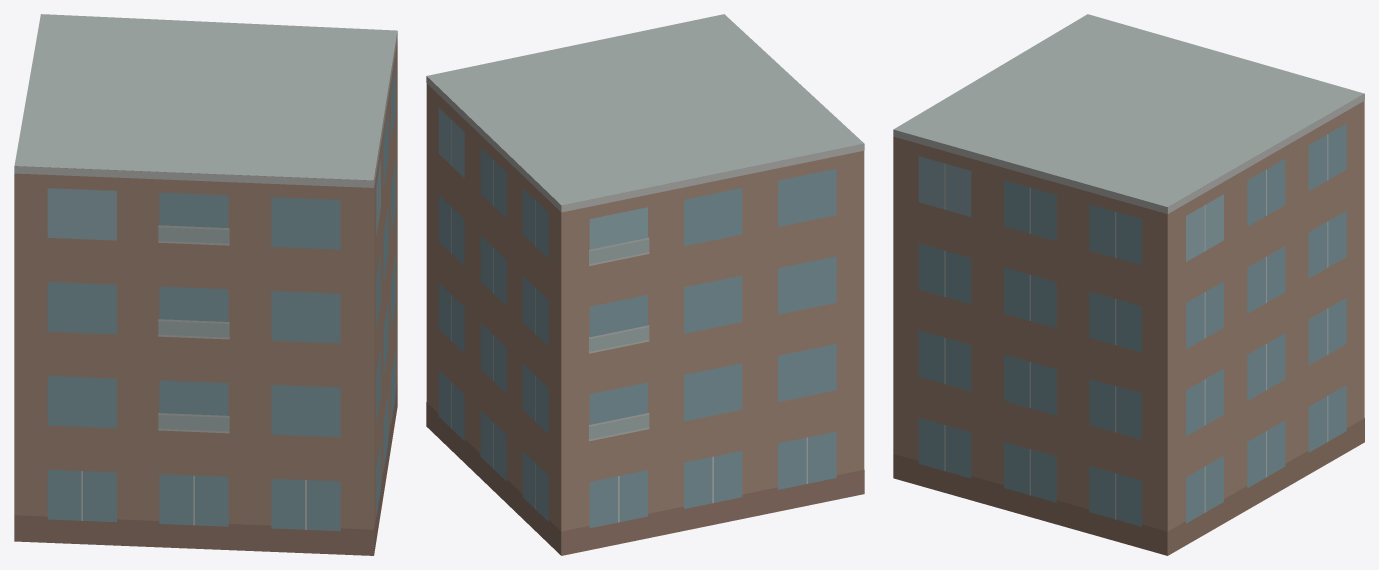
The model's file is survey-upis-32621430.glb.
The picture shows the model from 3 angles, left to right: view 1: azimuth 30°, elevation 25°; view 2: azimuth 150°, elevation 25°; view 3: azimuth 270°, elevation 25°; orthographic projection. The views are drawn at different scales.
Parts seen in each view (by area): view 1: survey-upis-32621430.tmp; view 2: survey-upis-32621430.tmp; view 3: survey-upis-32621430.tmp.
Boxes of the visible parts, x1,y1,x2,y2 form: survey-upis-32621430.tmp: (14,14,397,555); survey-upis-32621430.tmp: (426,14,864,555); survey-upis-32621430.tmp: (893,14,1364,555).
Size of the model in its own units: 14.44 by 12.15 by 14.89.
